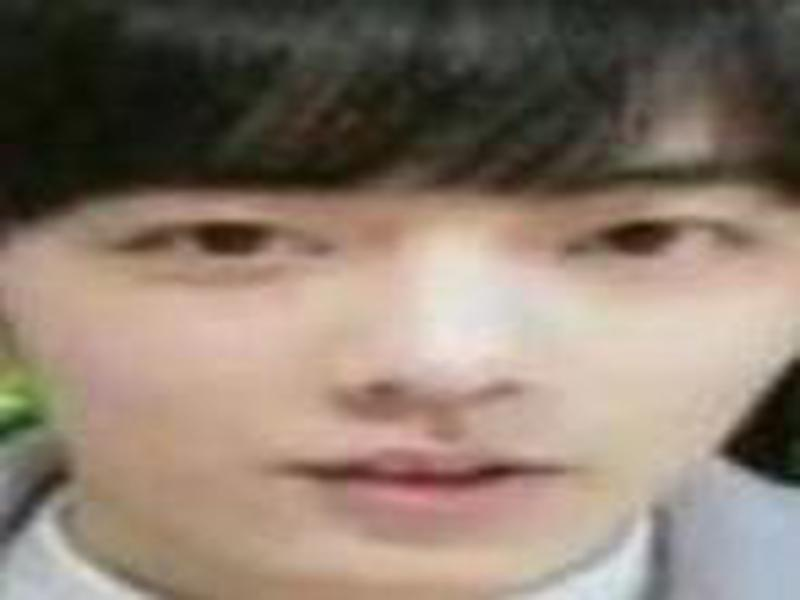without_mask: (14, 87, 791, 584)
